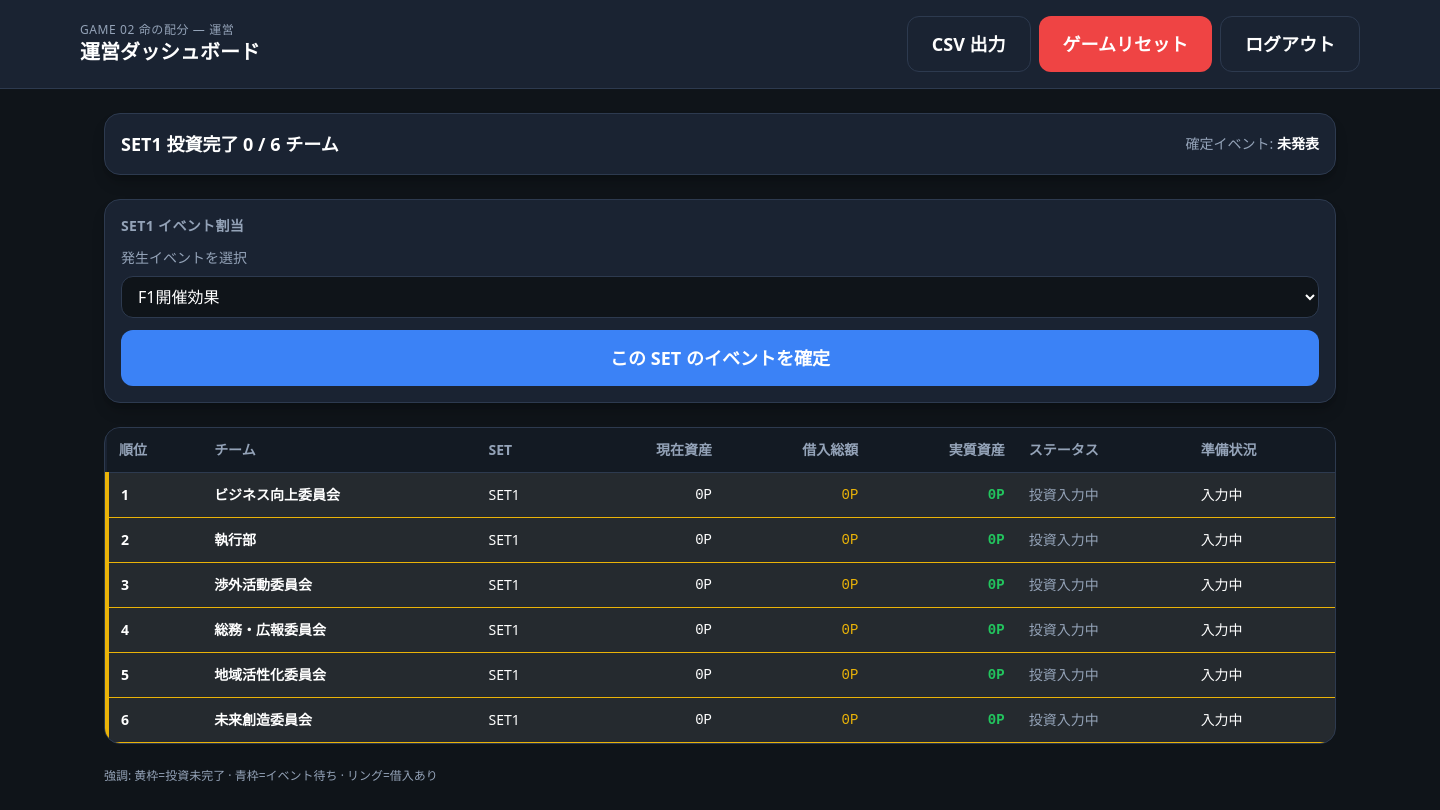
Test: AdminDashboardPage › assigns event for current set
Expected: the element with test id "event-assign-panel" is shown, [104, 199, 1336, 403]
Select "F1開催効果" in the dropdown labelled "発生イベントを選択" at (720, 297), box [121, 276, 1319, 318]
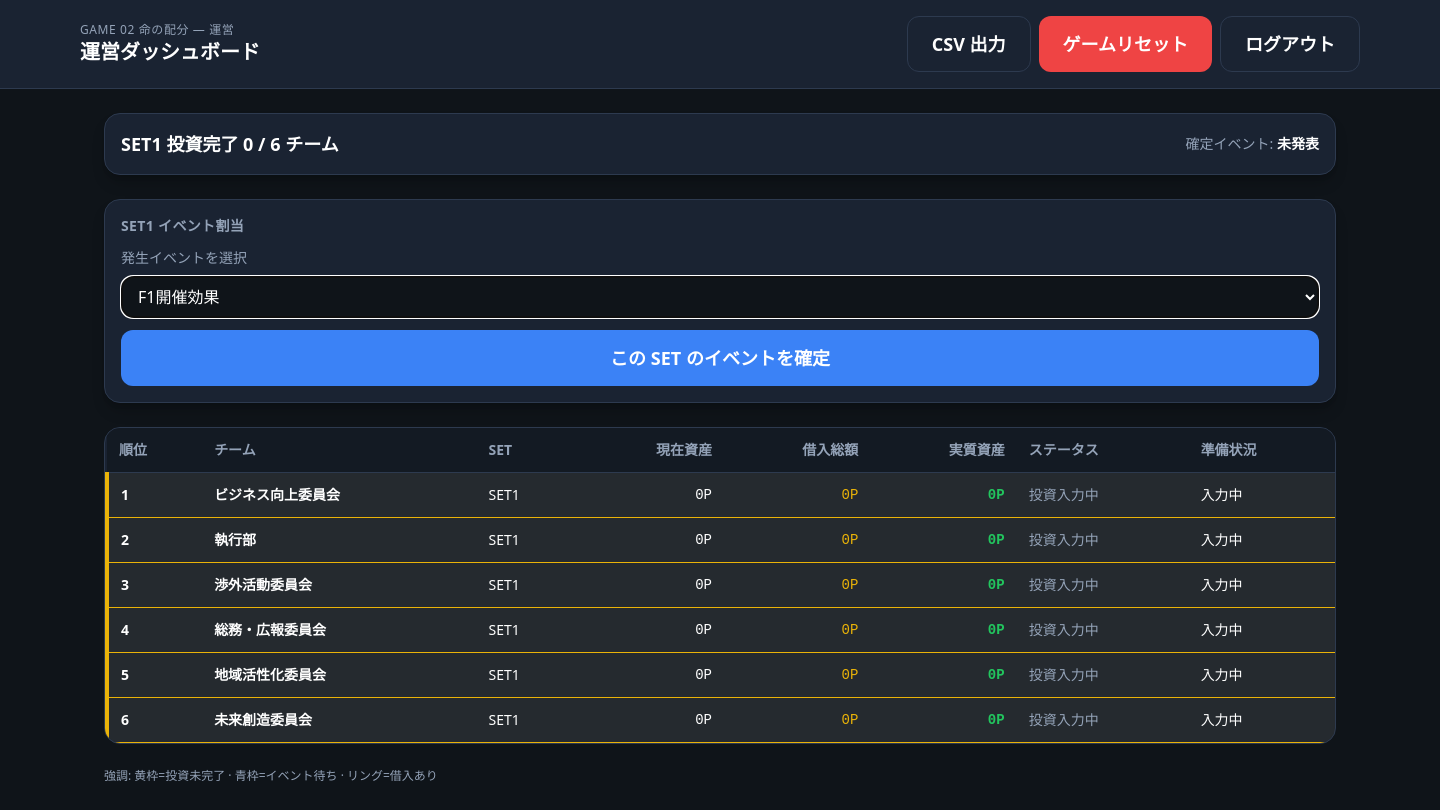
Click the button "この SET のイベントを確定".
click(720, 358)  # box [121, 330, 1319, 386]
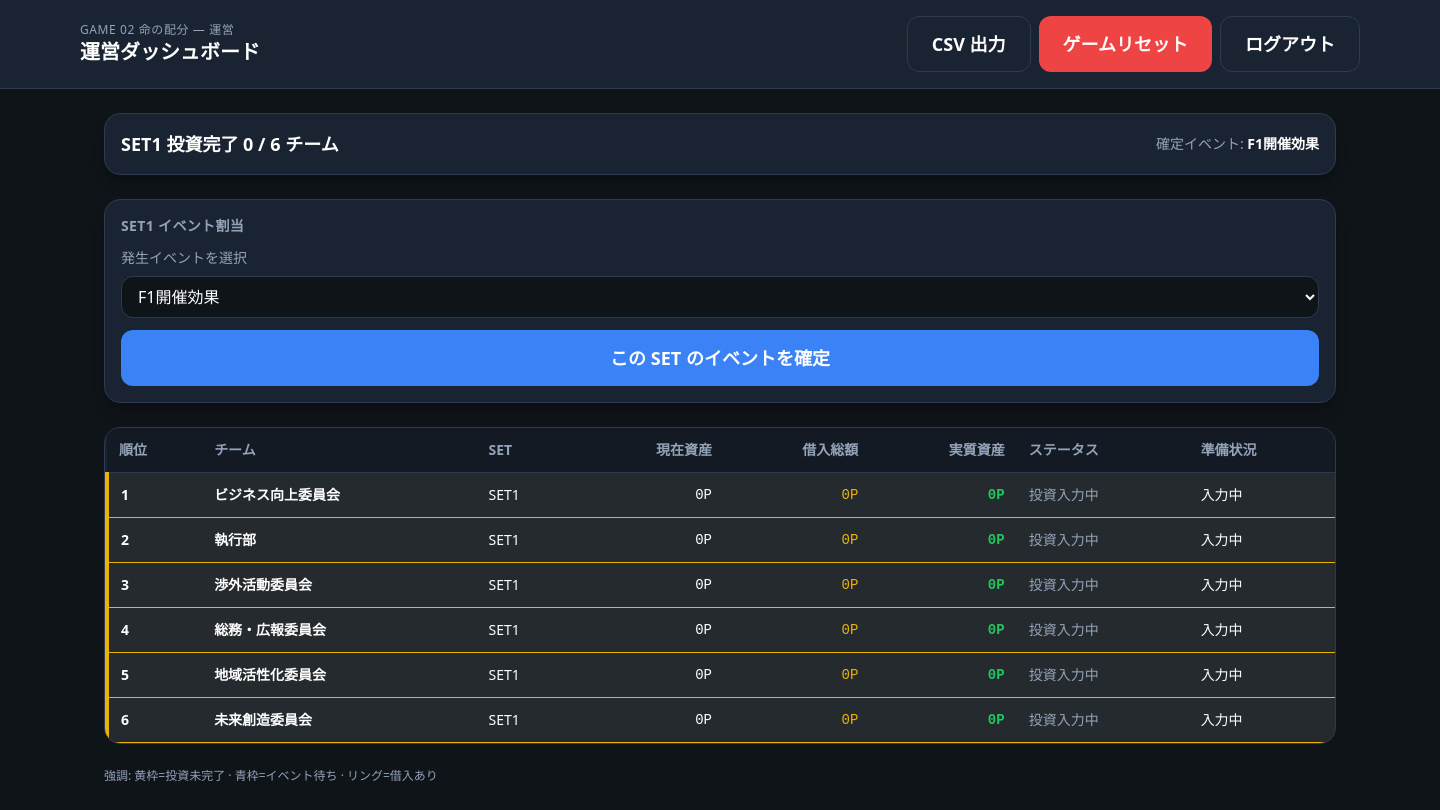
Now the text "F1開催効果" is shown, box [1247, 134, 1319, 153]
